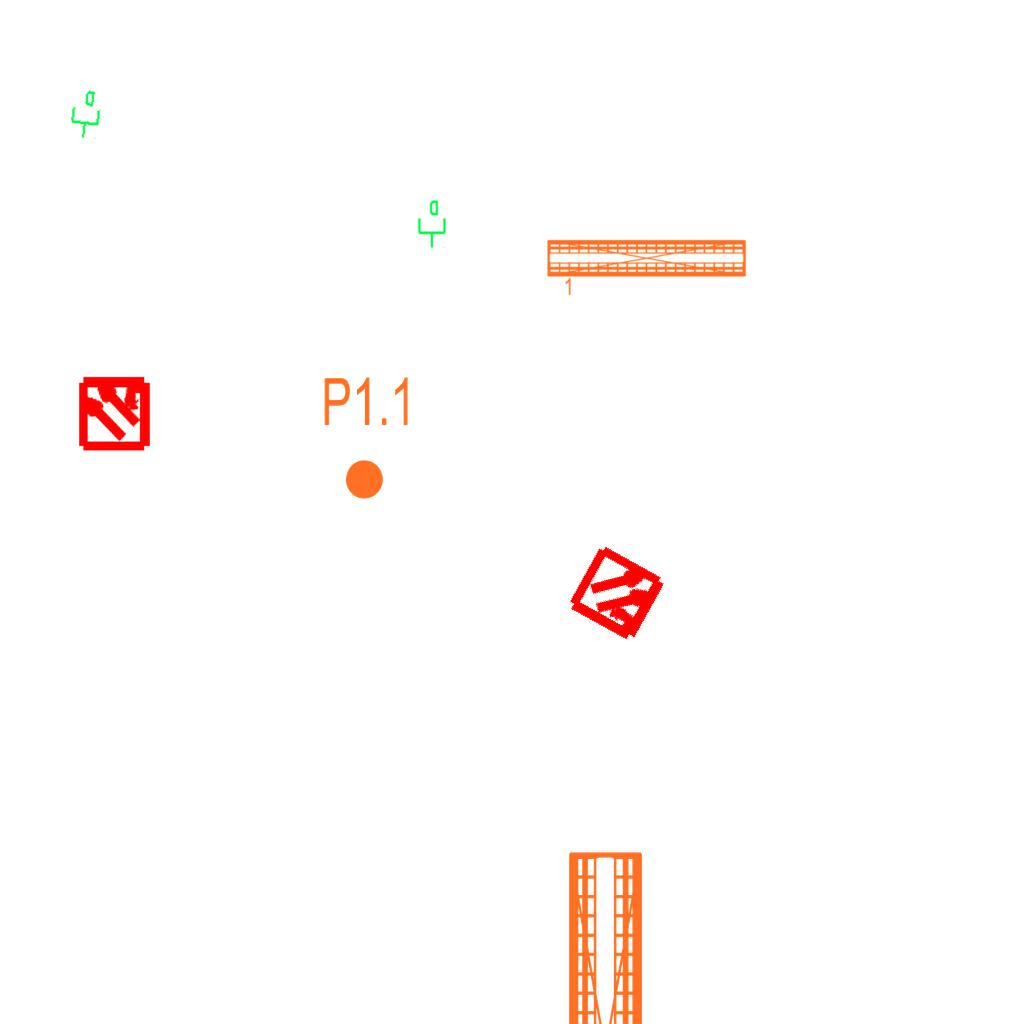Buero_Pendelleuchten_LED: (559, 844, 689, 1024), (544, 235, 750, 300)
Datenanschluss_einfach: (65, 87, 105, 141), (414, 199, 448, 249)
Downlight_LED_Einbauleuchten_Flur_2: (321, 374, 414, 502)
OT_Multisensormelder_(Kombination_RMO_WMD): (541, 517, 696, 672), (58, 355, 171, 468)
